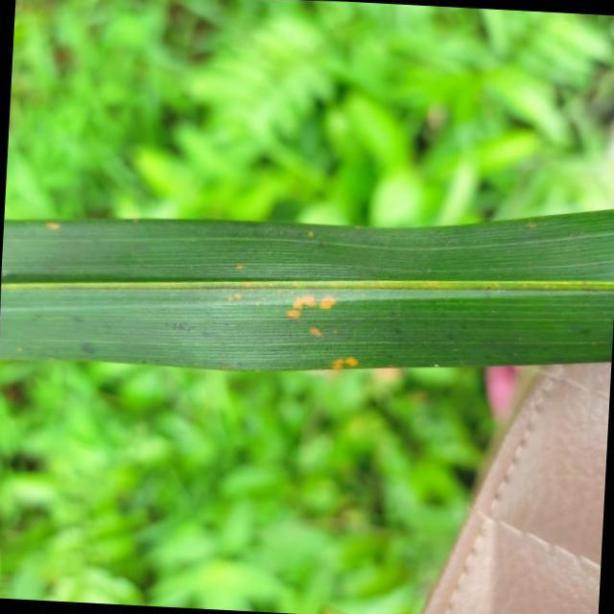Boron: (1, 207, 614, 374)
